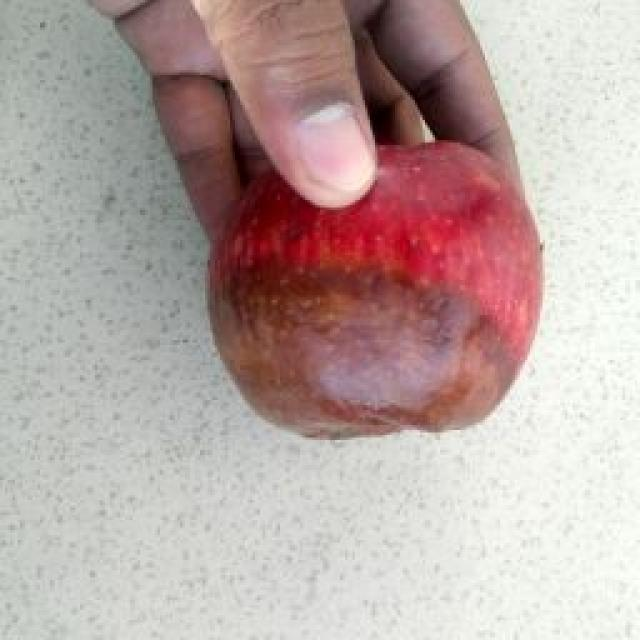Bad_Apple: (211, 146, 542, 437)
